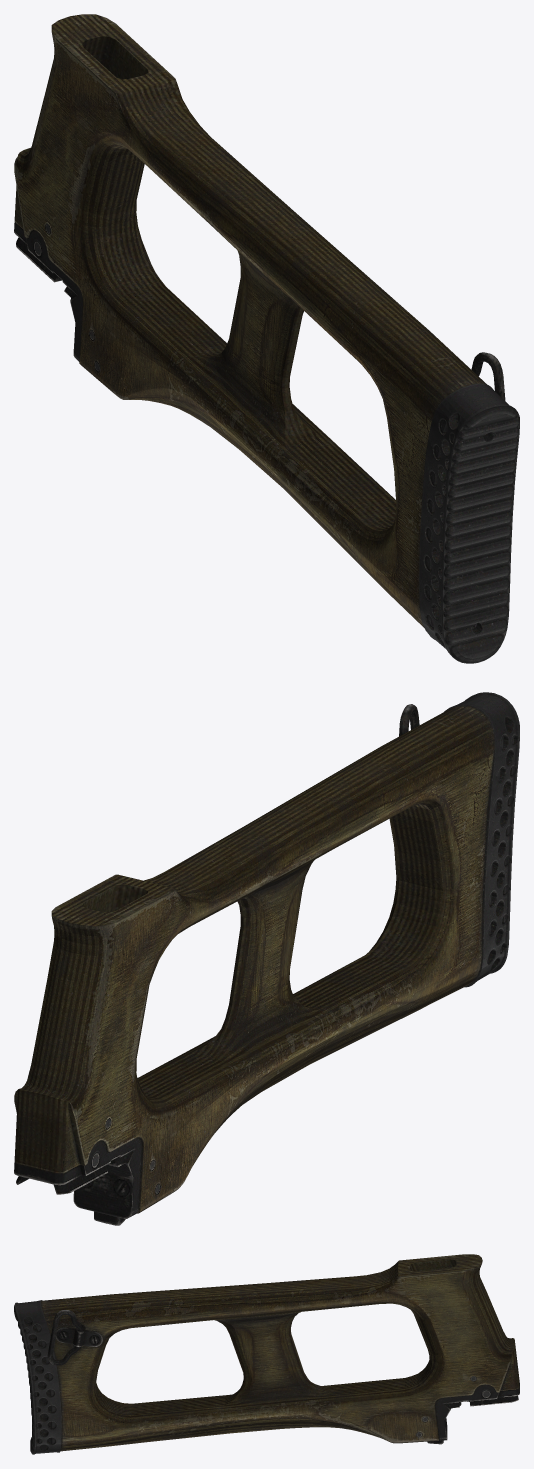
The picture shows the model from 3 angles, top to bottom: view 1: azimuth 30°, elevation 25°; view 2: azimuth 150°, elevation 25°; view 3: azimuth 270°, elevation 25°; orthographic projection. The views are drawn at different scales.
Visible parts, largest first — view 1: TW_578395e82459774a0e553c7b_PZ_Import; view 2: TW_578395e82459774a0e553c7b_PZ_Import; view 3: TW_578395e82459774a0e553c7b_PZ_Import.
Boxes of the visible parts, x1=… form: TW_578395e82459774a0e553c7b_PZ_Import: x1=14, y1=14, x2=519, y2=663; TW_578395e82459774a0e553c7b_PZ_Import: x1=14, y1=692, x2=519, y2=1225; TW_578395e82459774a0e553c7b_PZ_Import: x1=14, y1=1254, x2=519, y2=1454.
Size of the model in its own units: 0.0206 by 0.2042 by 0.0854.
1 material, 1 textured.
